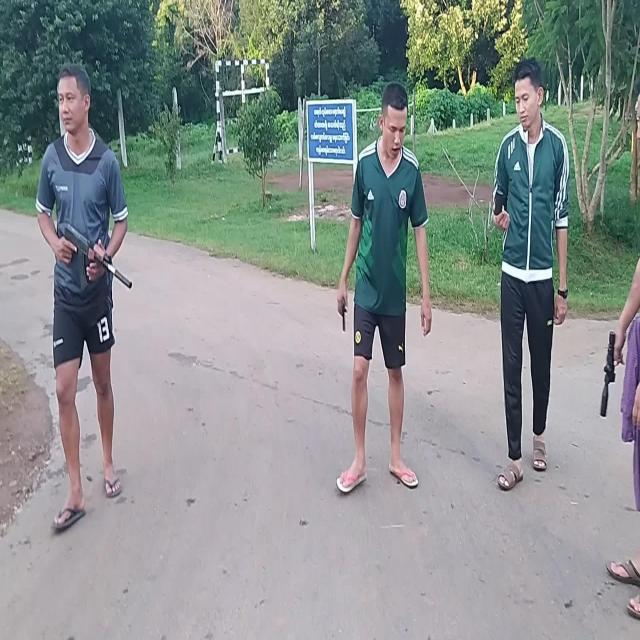gun: (64, 224, 132, 291), (341, 302, 345, 330)
